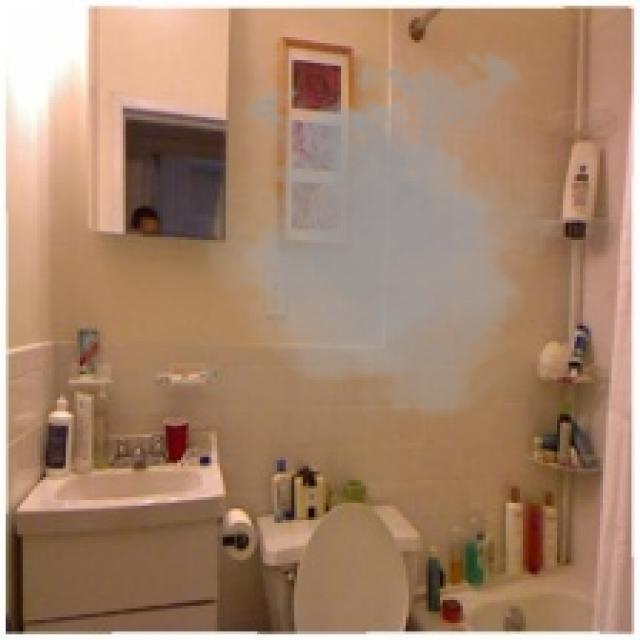smoke: (186, 40, 580, 423)
